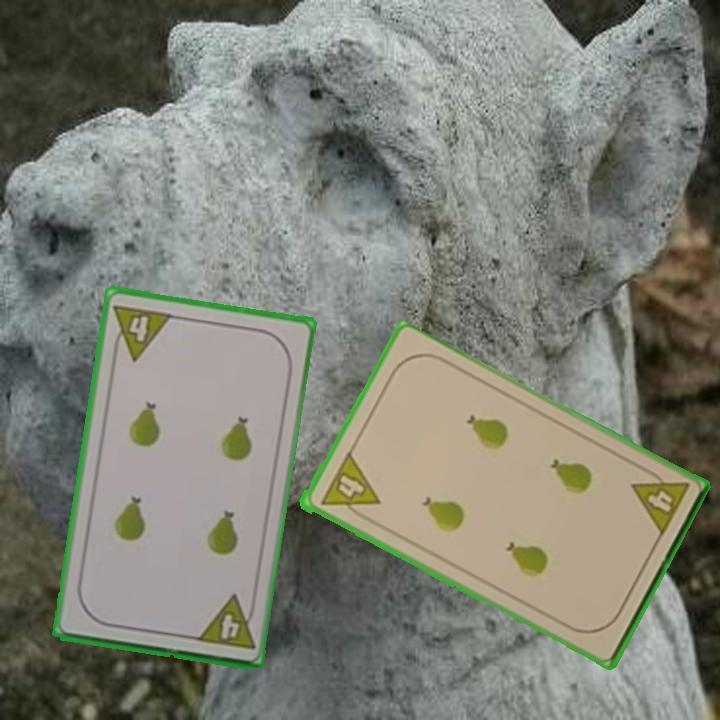4p: (627, 462, 692, 540), (316, 450, 382, 525), (108, 300, 175, 364), (192, 592, 258, 652)
